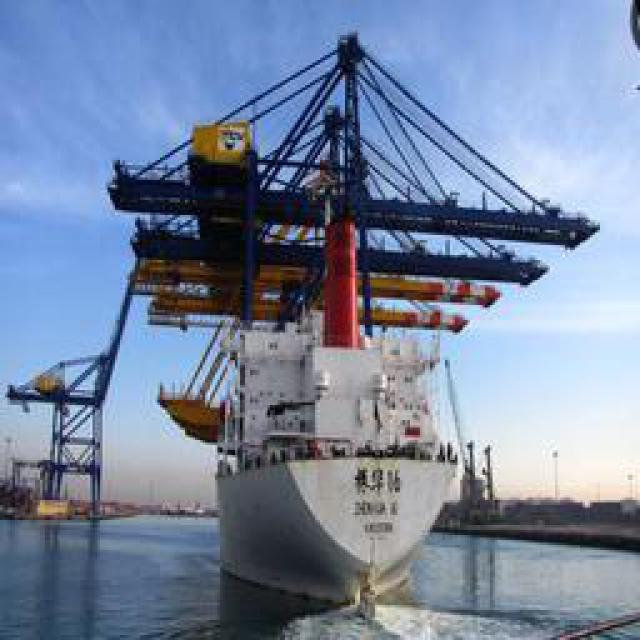Ship: (146, 17, 576, 607)
